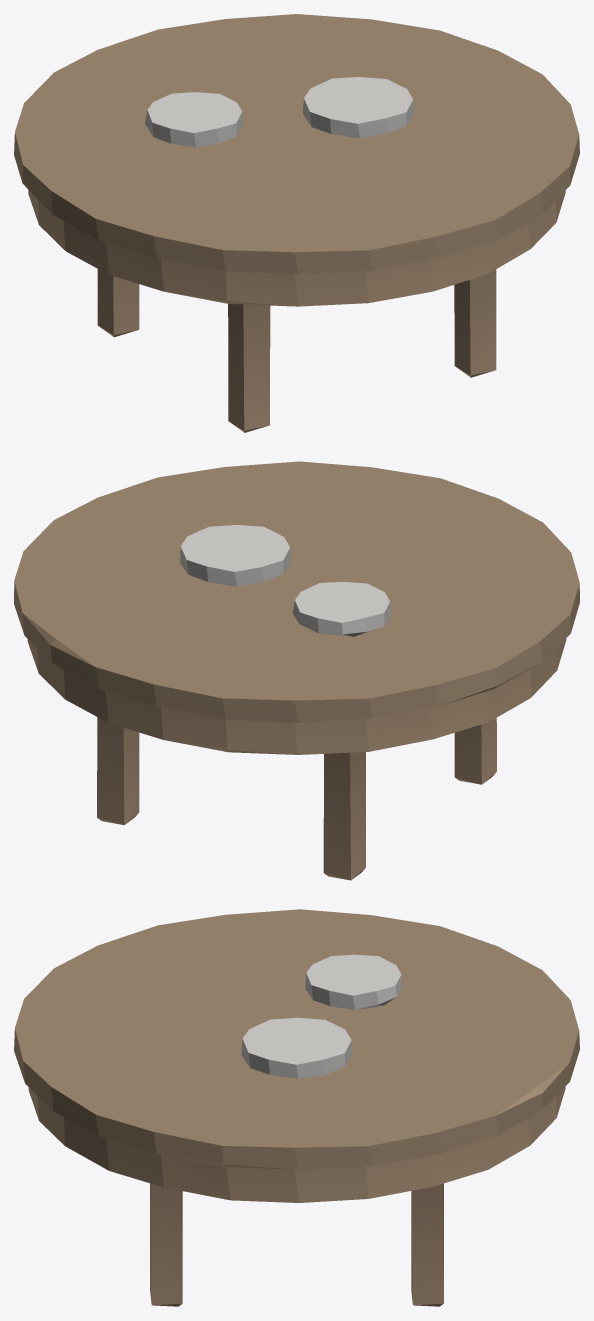
Rendered from furn_soban__walnut_low.glb.
The picture shows the model from 3 angles, top to bottom: view 1: azimuth 30°, elevation 25°; view 2: azimuth 150°, elevation 25°; view 3: azimuth 270°, elevation 25°; orthographic projection.
Bounding box in the file's own units: 0.7966 × 0.3684 × 0.7966.
